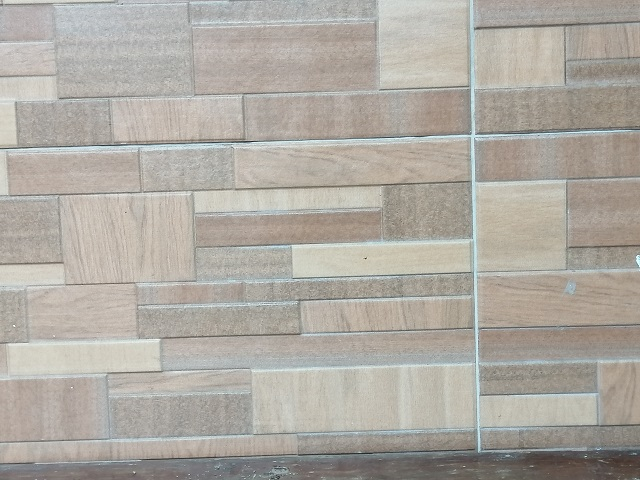wall: (1, 4, 640, 450)
